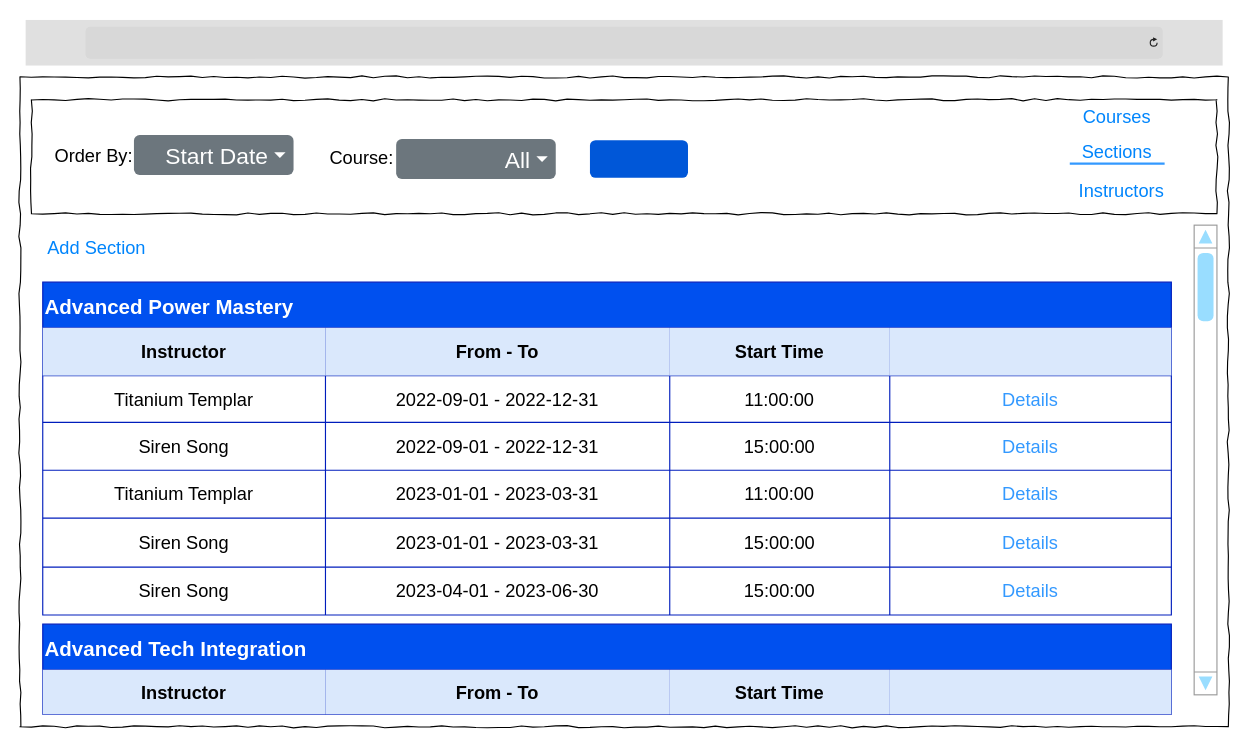
Image size: 1248x747. Some labels were removed from this diagram. Here are the shapes that lost their labels. From the top down, the box of each, then its label:
(25, 19, 1223, 66): fourthwallacademy.com/Sections
(589, 140, 687, 177): Apply
